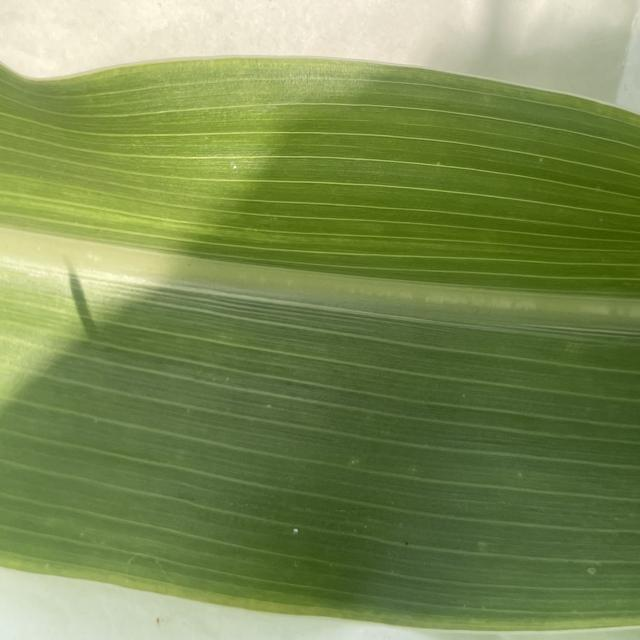millet_healthy: (0, 49, 640, 632)
